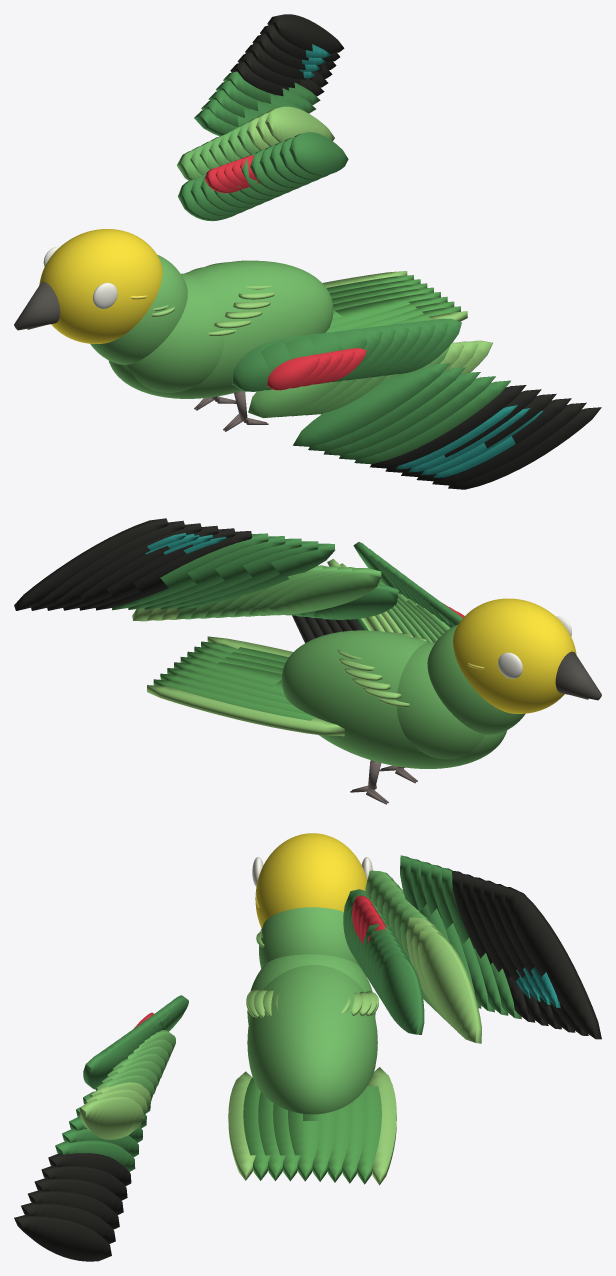
File: loroHighpoly.glb
3 renders of one model, top to bottom at view 1: azimuth 30°, elevation 25°; view 2: azimuth 150°, elevation 25°; view 3: azimuth 270°, elevation 25°, orthographic. The views are drawn at different scales.
Parts seen in each view (by area): view 1: Body_HighPoly, Yellow_Head, Chest, Primary_-1_00, Neck, Primary_-1_01, Primary_-1_02, Primary_-1_04, Primary_-1_03, Primary_-1_05, Primary_-1_09, Primary_-1_10 (+35 smaller); view 2: Body_HighPoly, Yellow_Head, Chest, Neck, MiddleWing_1_00, Tail_09, Primary_1_10, Primary_1_00, Primary_1_09, Primary_1_05, Primary_1_04, Primary_1_03 (+21 smaller); view 3: Body_HighPoly, Yellow_Head, Primary_1_10, MiddleWing_1_09, Neck, Primary_-1_10, Covert_1_11, MiddleWing_-1_09, Chest, Tail_09, Tail_00, Tail_04 (+27 smaller).
Part boxes in pixels (box(x1,y1,x2,y2)): Body_HighPoly: box(108, 260, 333, 398); Yellow_Head: box(39, 229, 162, 343); Chest: box(126, 273, 224, 392); Primary_-1_00: box(293, 363, 450, 446); Neck: box(90, 255, 187, 364); Primary_-1_01: box(308, 367, 465, 451); Primary_-1_02: box(323, 372, 480, 455); Primary_-1_04: box(354, 380, 510, 464); Primary_-1_03: box(339, 376, 495, 459); Primary_-1_05: box(370, 385, 526, 468); Primary_-1_09: box(432, 402, 586, 485); Primary_-1_10: box(448, 407, 601, 489); Body_HighPoly: box(281, 630, 506, 768); Yellow_Head: box(453, 598, 576, 713); Chest: box(396, 642, 484, 759); Neck: box(427, 624, 525, 734); MiddleWing_1_00: box(268, 568, 381, 615); Tail_09: box(147, 685, 344, 736); Primary_1_10: box(14, 518, 168, 610); Primary_1_00: box(177, 543, 335, 609); Primary_1_09: box(31, 520, 185, 610); Primary_1_05: box(95, 531, 252, 610); Primary_1_04: box(112, 533, 268, 610); Primary_1_03: box(128, 536, 285, 609); Body_HighPoly: box(247, 965, 377, 1114); Yellow_Head: box(255, 833, 367, 928); Primary_1_10: box(504, 887, 601, 1039); MiddleWing_1_09: box(418, 931, 481, 1043); Neck: box(259, 907, 360, 968); Primary_-1_10: box(14, 1215, 111, 1261); Covert_1_11: box(379, 953, 424, 1034); MiddleWing_-1_09: box(79, 1096, 143, 1139); Chest: box(247, 954, 375, 1024); Tail_09: box(367, 1067, 396, 1185); Tail_00: box(228, 1071, 255, 1180); Tail_04: box(288, 1110, 321, 1181).
Bounding box in the file's own units: 5.1 × 3.57 × 5.14.
